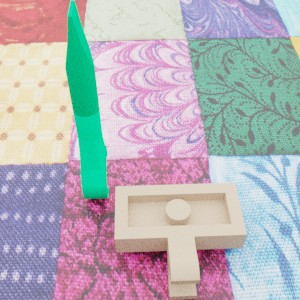lego: (114, 182, 246, 300), (65, 0, 108, 199)
